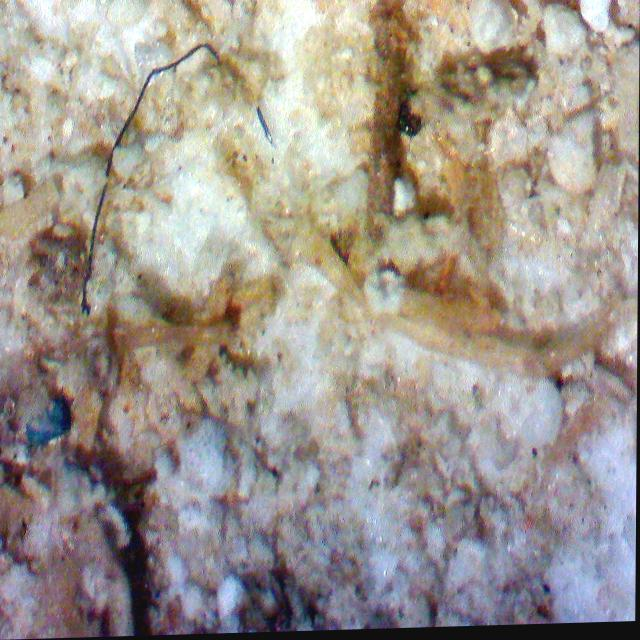microplastic: (0, 28, 289, 319), (13, 382, 85, 456)
